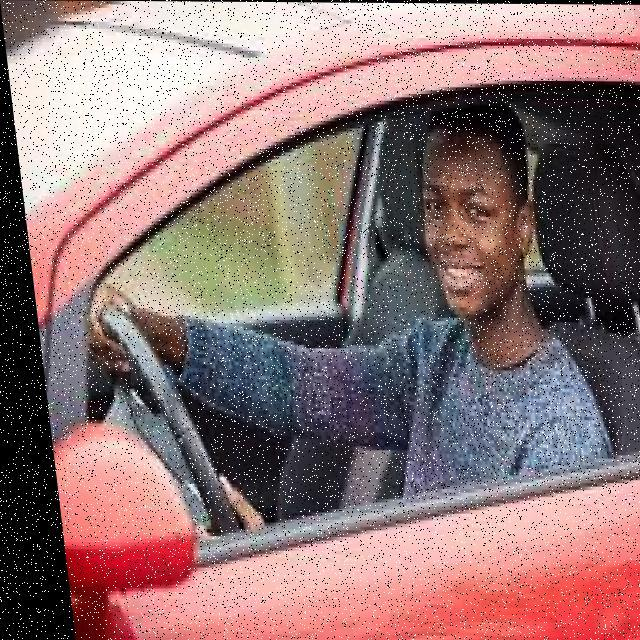noSeatbelt: (346, 290, 600, 540)
